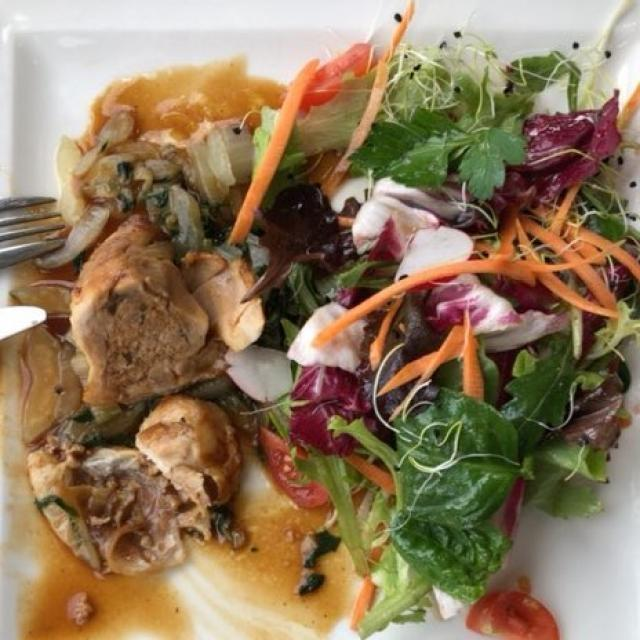carrot: (286, 203, 604, 414)
chicken: (62, 242, 268, 568)
salad: (283, 59, 598, 590)
sauce: (18, 46, 335, 629)
